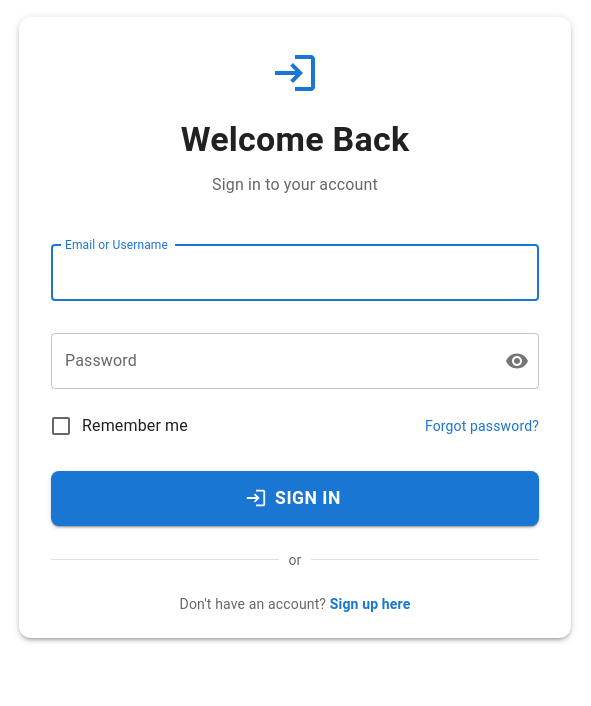
LoginForm Component Integration › shows validation errors for empty fields
The width and height of the screenshot is (591, 706).
Click the button "Sign In".
click(295, 498)  # box x1=51 y1=471 x2=539 y2=526
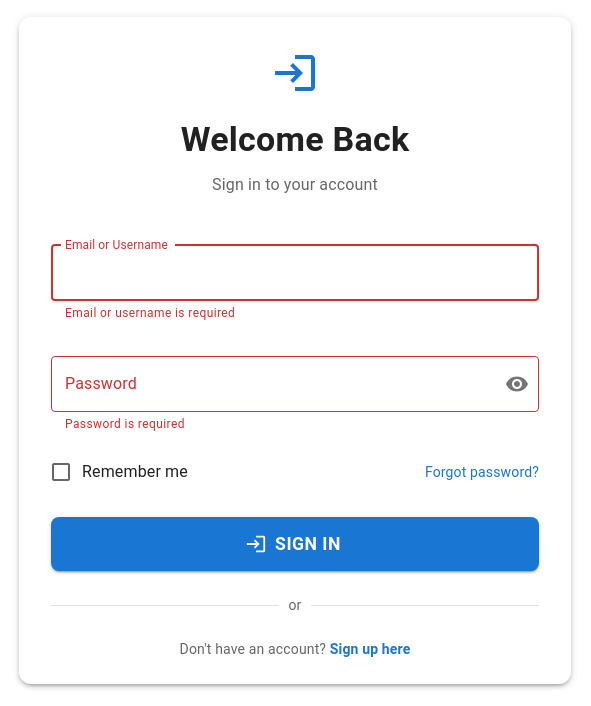
Result: the text "Email or username is required" is shown at x1=65 y1=306 x2=235 y2=320
Result: the text "Password is required" is shown at x1=65 y1=417 x2=185 y2=431
